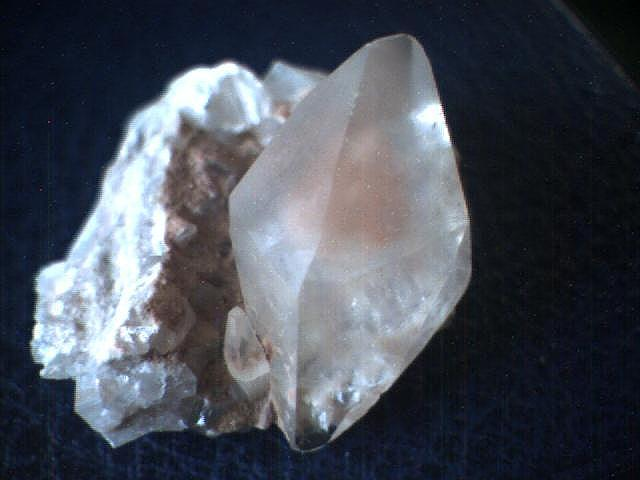calcite: (230, 34, 472, 450)
